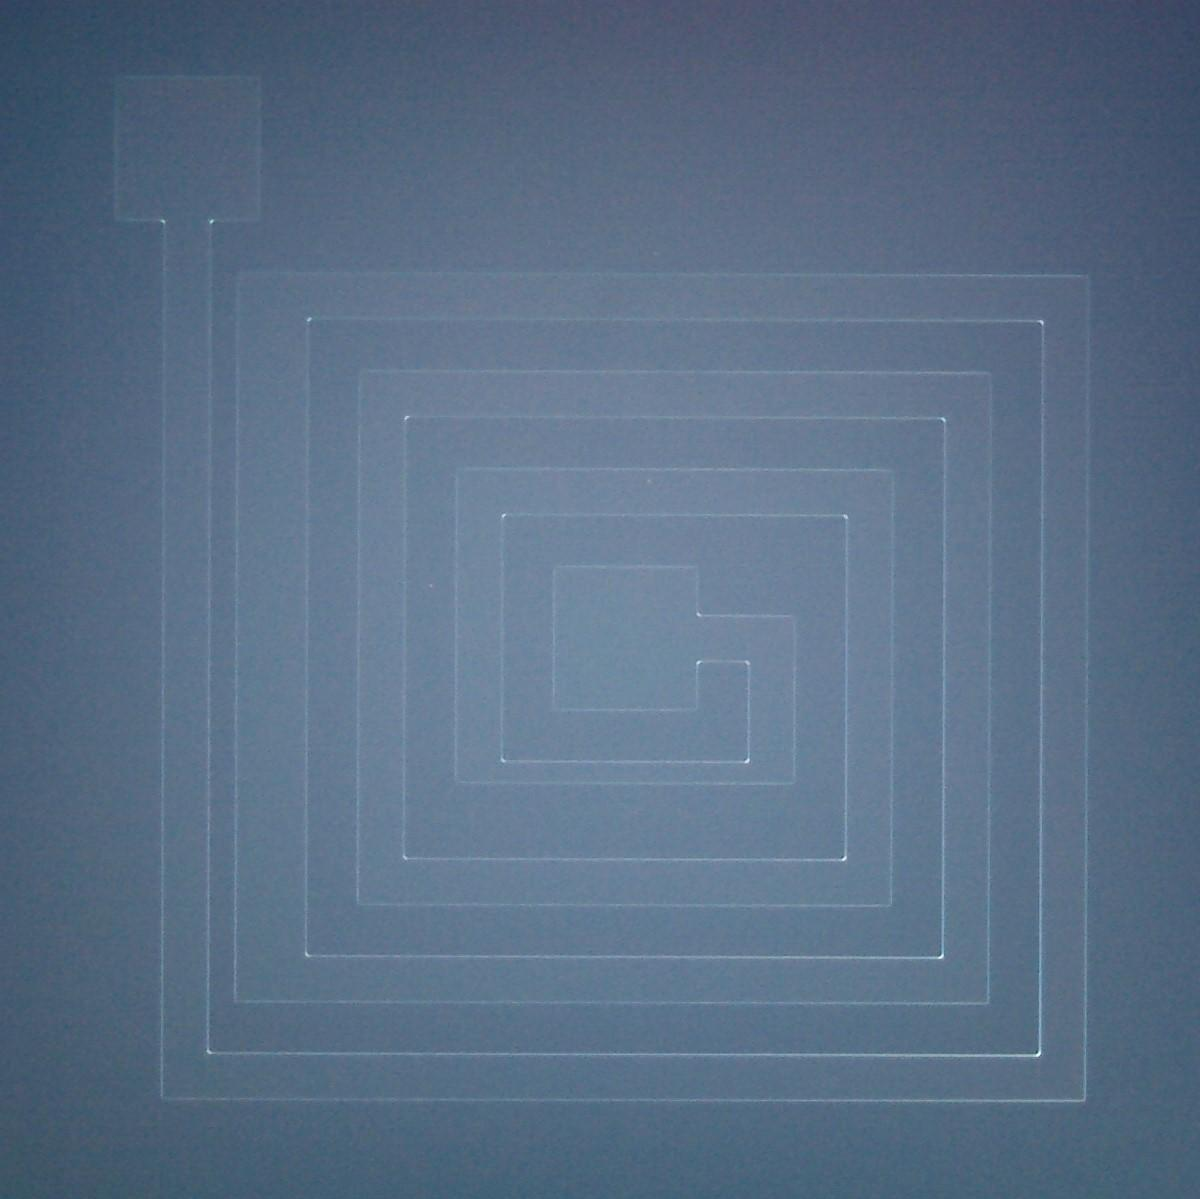s_point: (647, 479, 652, 483)
width: (135, 244, 413, 1027), (420, 629, 822, 922)
